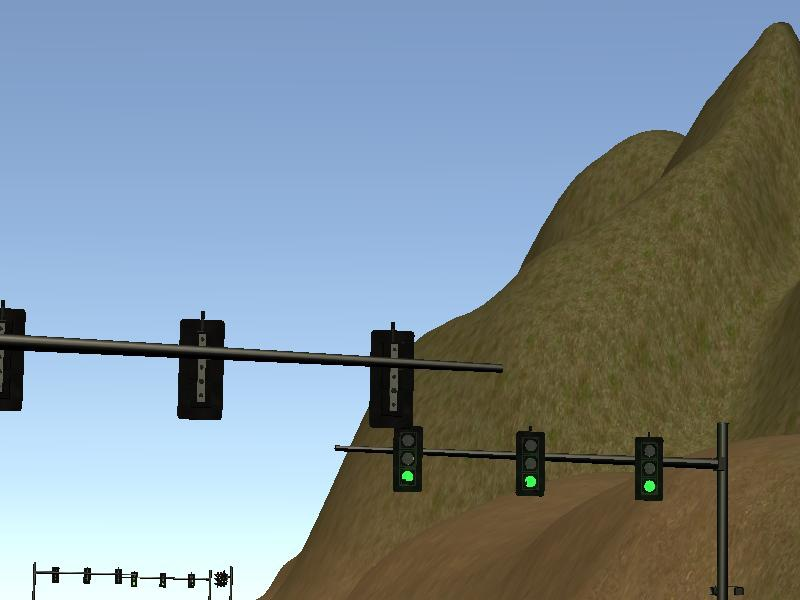Green: (517, 431, 545, 496), (394, 427, 422, 491), (635, 437, 663, 501), (130, 570, 138, 586), (159, 573, 165, 587), (188, 575, 194, 587)
